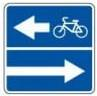road_sign: (3, 2, 96, 95)
